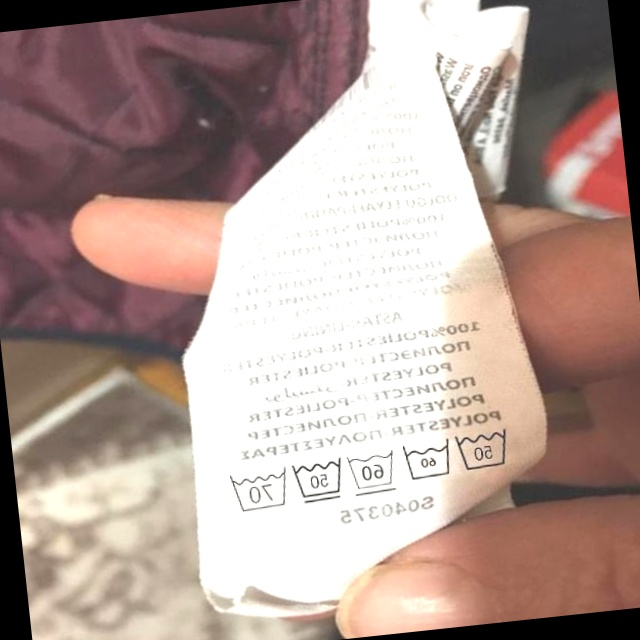50C: (450, 420, 517, 477), (288, 453, 348, 508)
60C: (342, 445, 400, 498), (397, 435, 456, 486)
70C: (223, 464, 291, 516)
